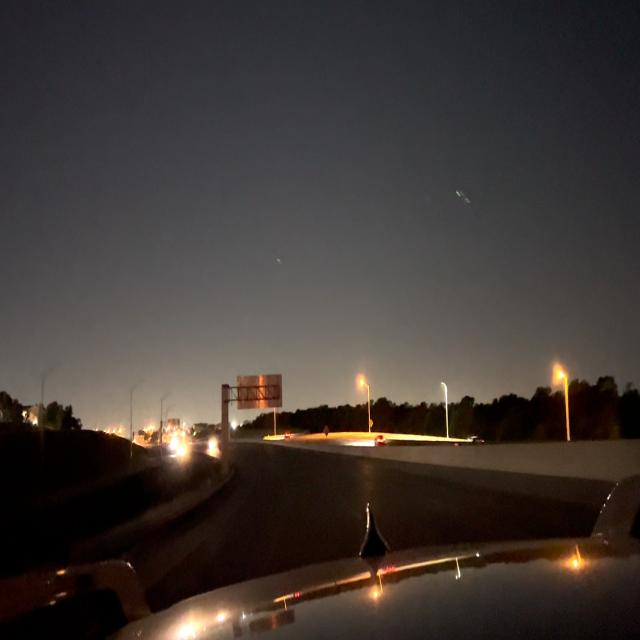back-of-sign: (238, 374, 283, 411)
